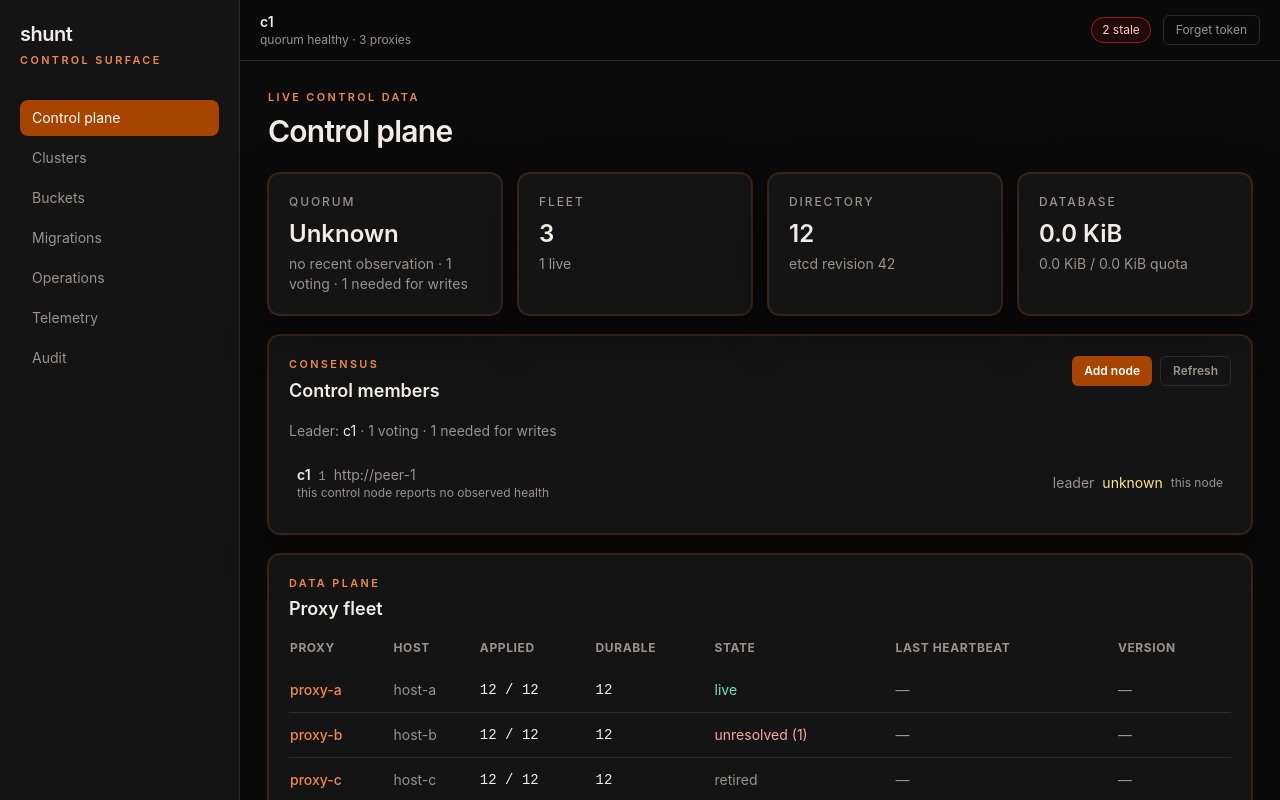
Test: shows each proxy's incarnation state, resolves an unclean one with an attestation, and shows a refused forget
Check: the heading "Proxy fleet" is shown, box [289, 595, 383, 623]
Click the text "proxy-b".
click(341, 735)  # box [289, 712, 392, 757]
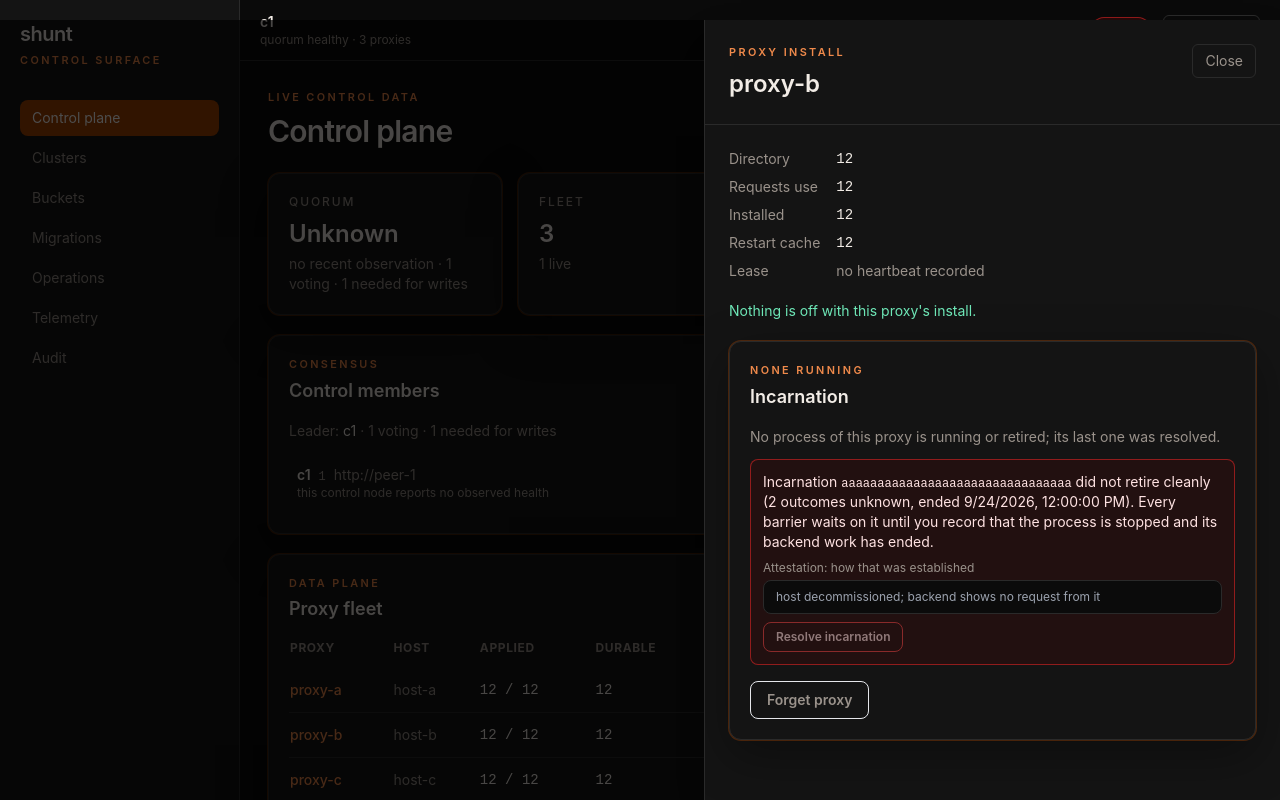
Check: the text "did not retire cleanly (2 outcomes unknown" is shown, box [763, 472, 1222, 552]
Click the button "Forget proxy".
click(810, 700)  # box [750, 681, 870, 719]
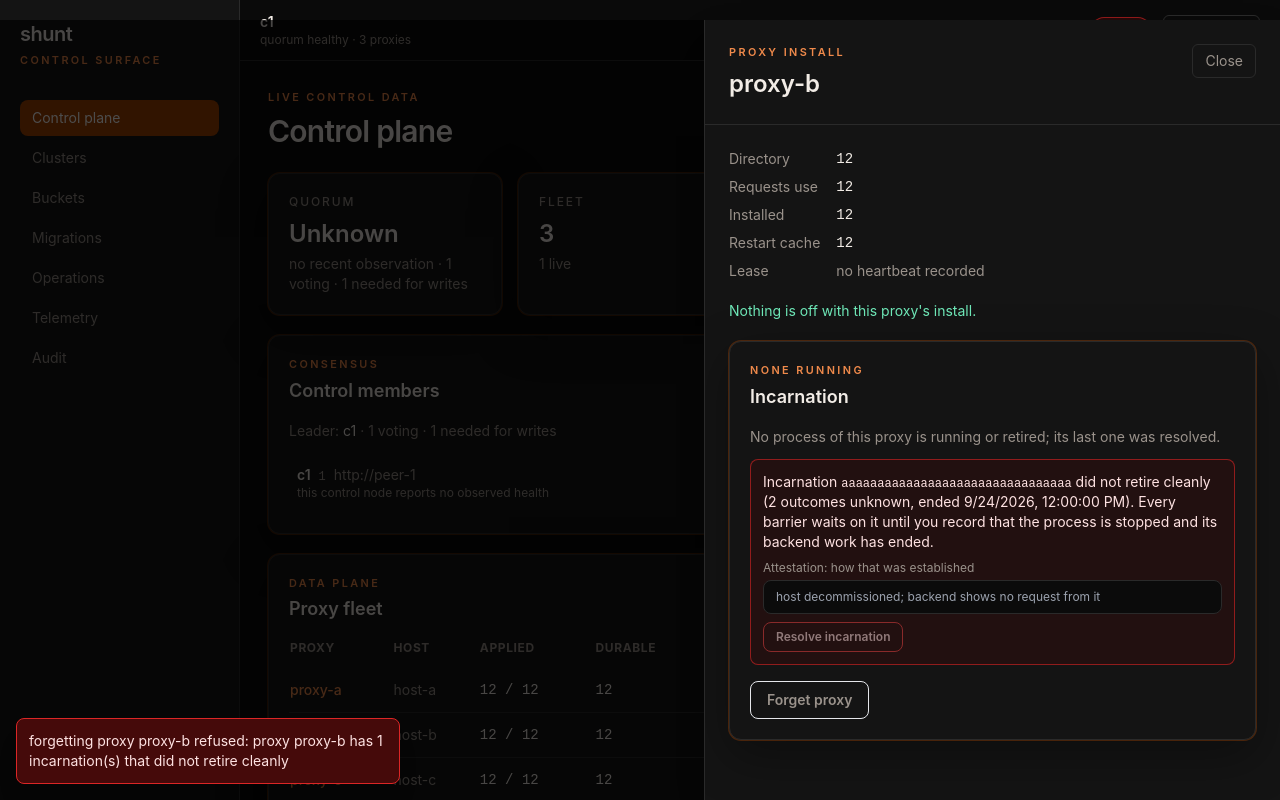
Check: the button "Resolve incarnation" is disabled, box [763, 622, 904, 652]
Check: the button "forgetting proxy proxy-b refused" is shown, box [16, 718, 400, 784]
Type "host wiped on 2026-09-24" into the field labelled "Attestation: how that was established".
click(992, 597); type("host wiped on 2026-09-24")  # box [763, 580, 1222, 614]
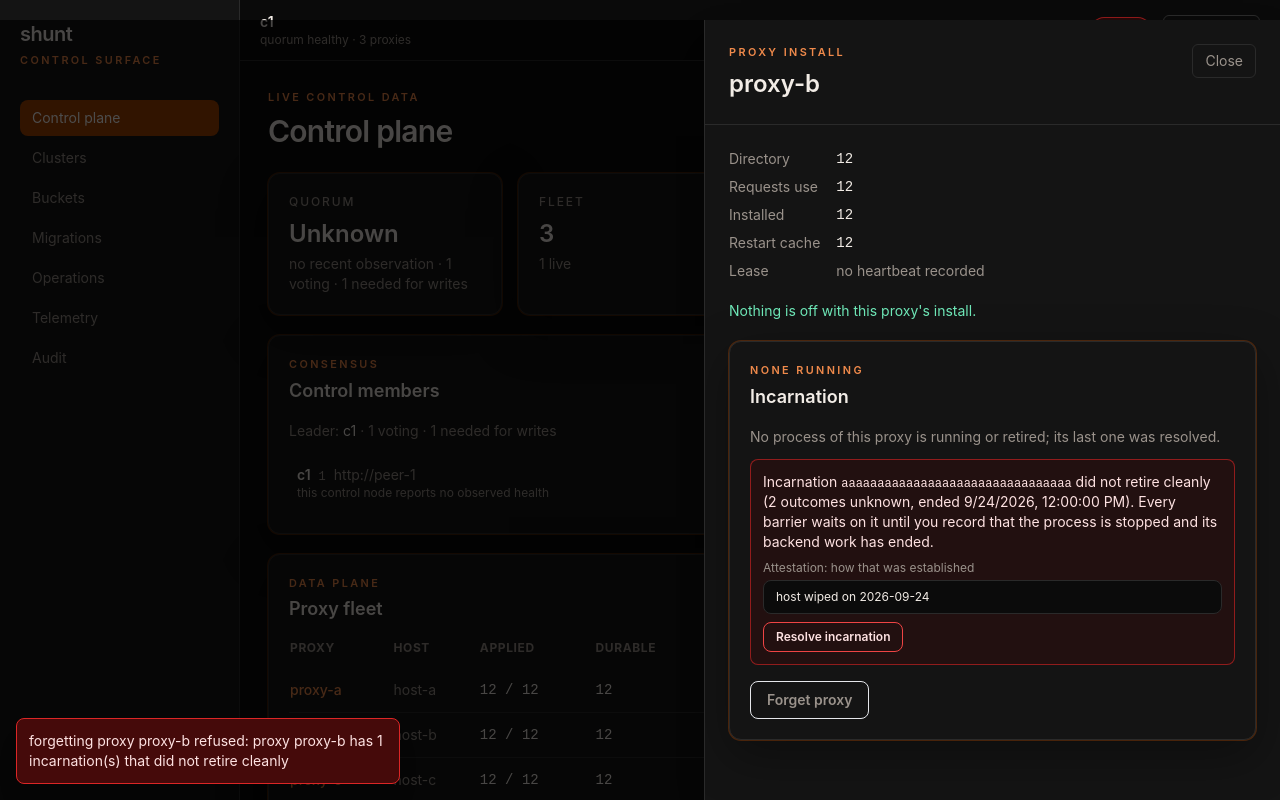
Click the button "Resolve incarnation".
click(833, 637)  # box [763, 622, 904, 652]
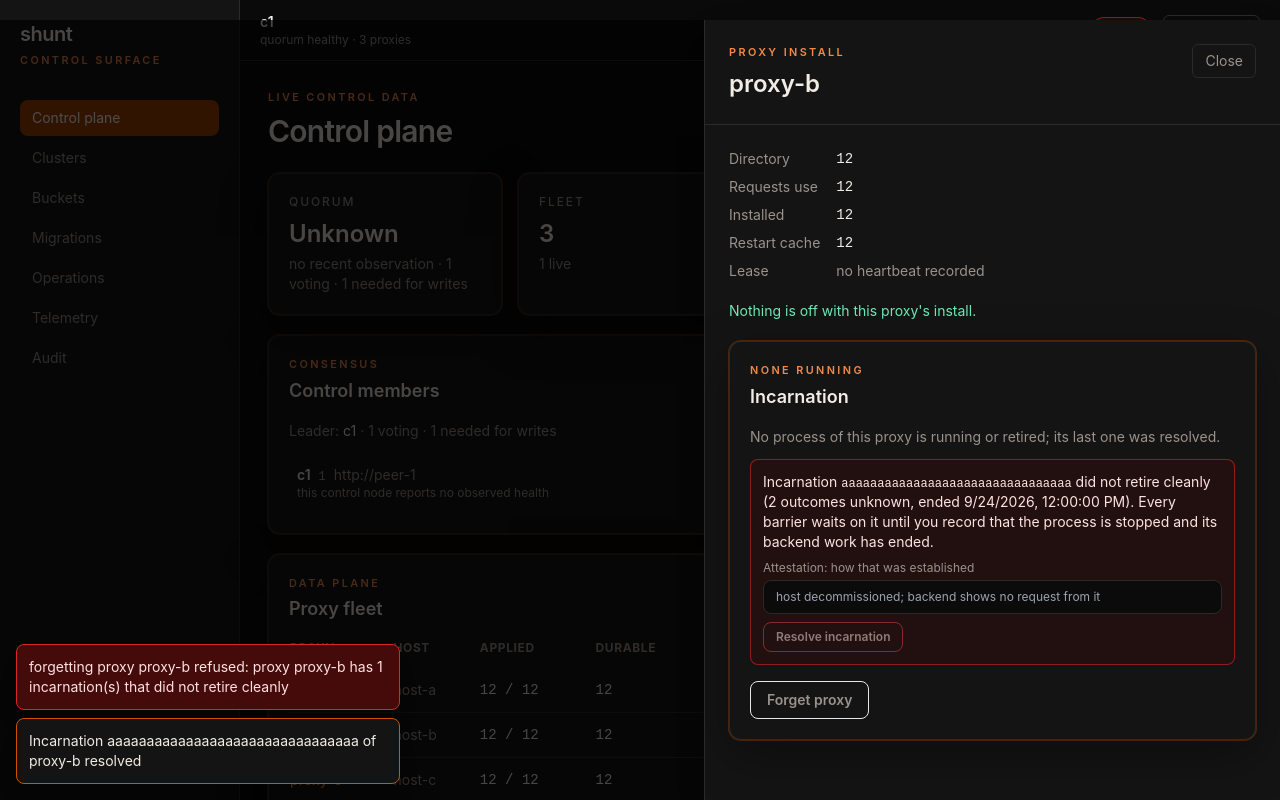
Check: the button "Incarnation aaaaaaaaaaaaaaaaaaaaaaaaaaaaaaaa of proxy-b resolved" is shown, box [16, 718, 400, 784]
